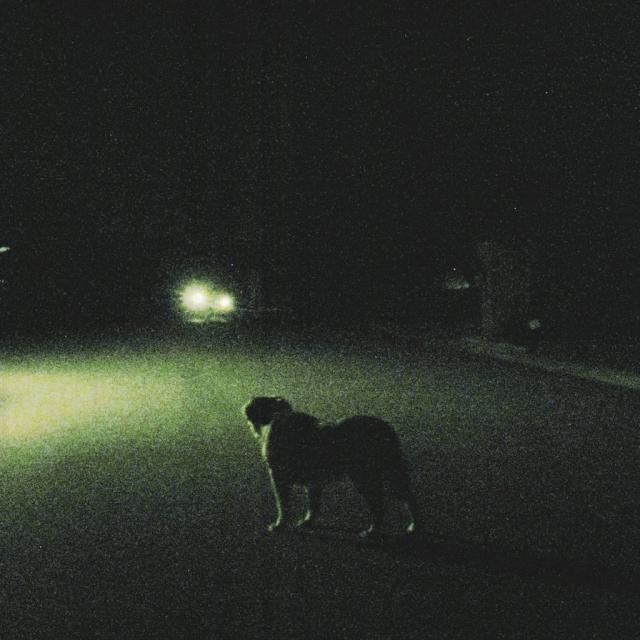Dog: (195, 360, 447, 584)
